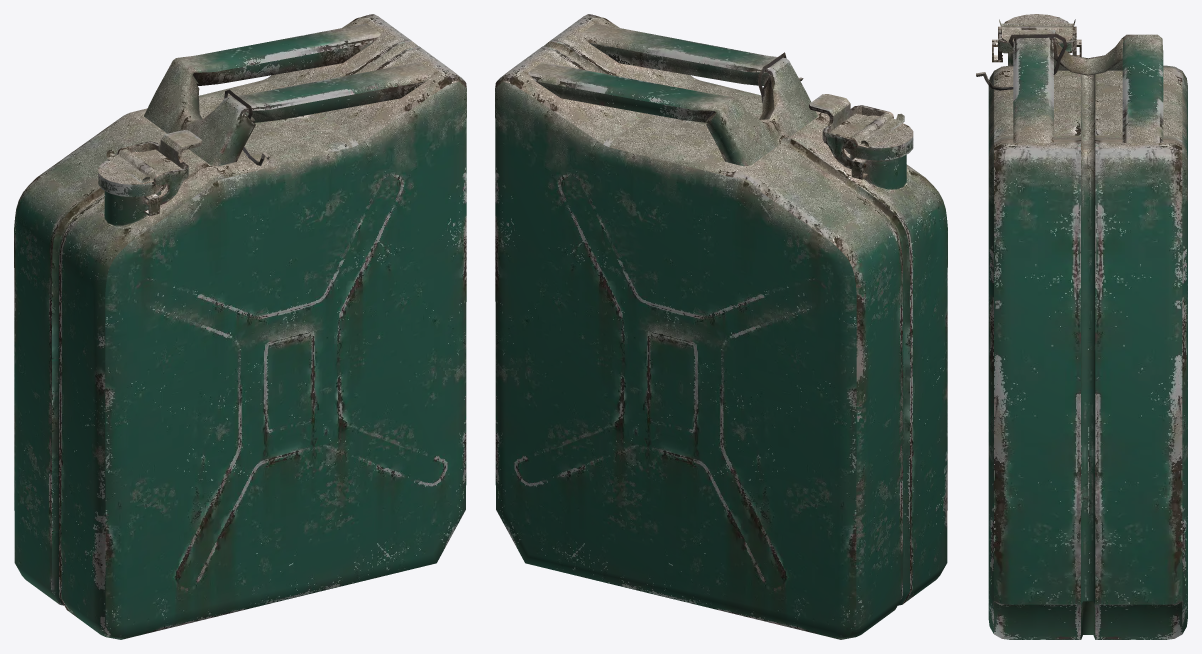
File: Cane.glb
3 renders of one model, left to right at view 1: azimuth 30°, elevation 25°; view 2: azimuth 150°, elevation 25°; view 3: azimuth 270°, elevation 25°, orthographic. The views are drawn at different scales.
Parts seen in each view (by area): view 1: Cane; view 2: Cane; view 3: Cane.
Part boxes in pixels (x1,y1,x2,y2): Cane: (14,14,466,639); Cane: (495,14,947,639); Cane: (976,14,1187,639).
Bounding box in the file's own units: 0.4329 × 0.5591 × 0.2081.
Materials: 1 (1 with a texture image).
